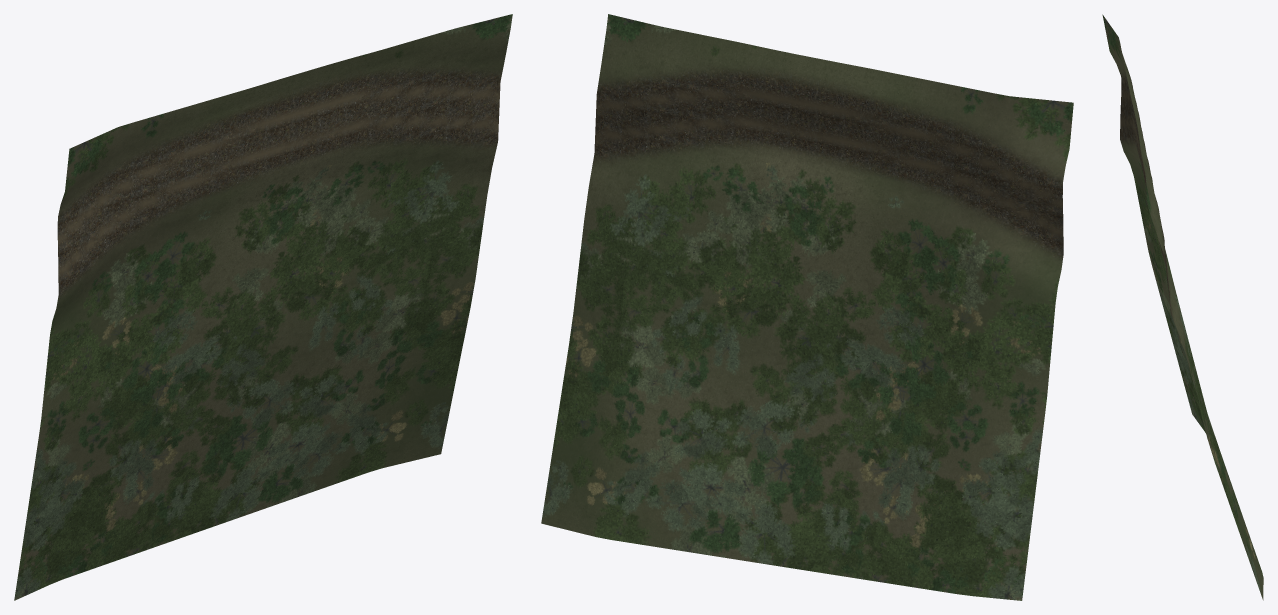
Rendered from terrain_core_07_01.obj.
3 renders of one model, left to right at view 1: azimuth 30°, elevation 25°; view 2: azimuth 150°, elevation 25°; view 3: azimuth 270°, elevation 25°, orthographic. The views are drawn at different scales.
Visible parts, largest first — view 1: terrain_core_07_01; view 2: terrain_core_07_01; view 3: terrain_core_07_01.
Boxes of the visible parts, x1,y1,x2,y2 form: terrain_core_07_01: [14, 14, 512, 600]; terrain_core_07_01: [541, 14, 1073, 600]; terrain_core_07_01: [1102, 14, 1263, 600].
Size of the model in its own units: 32 by 32 by 11.68.
Materials: 1 (1 with a texture image).
